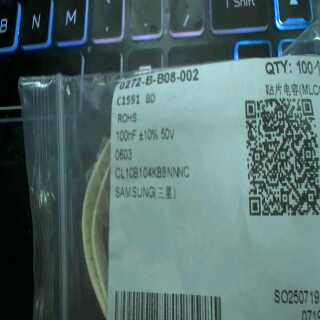100nF: (112, 124, 138, 144)
